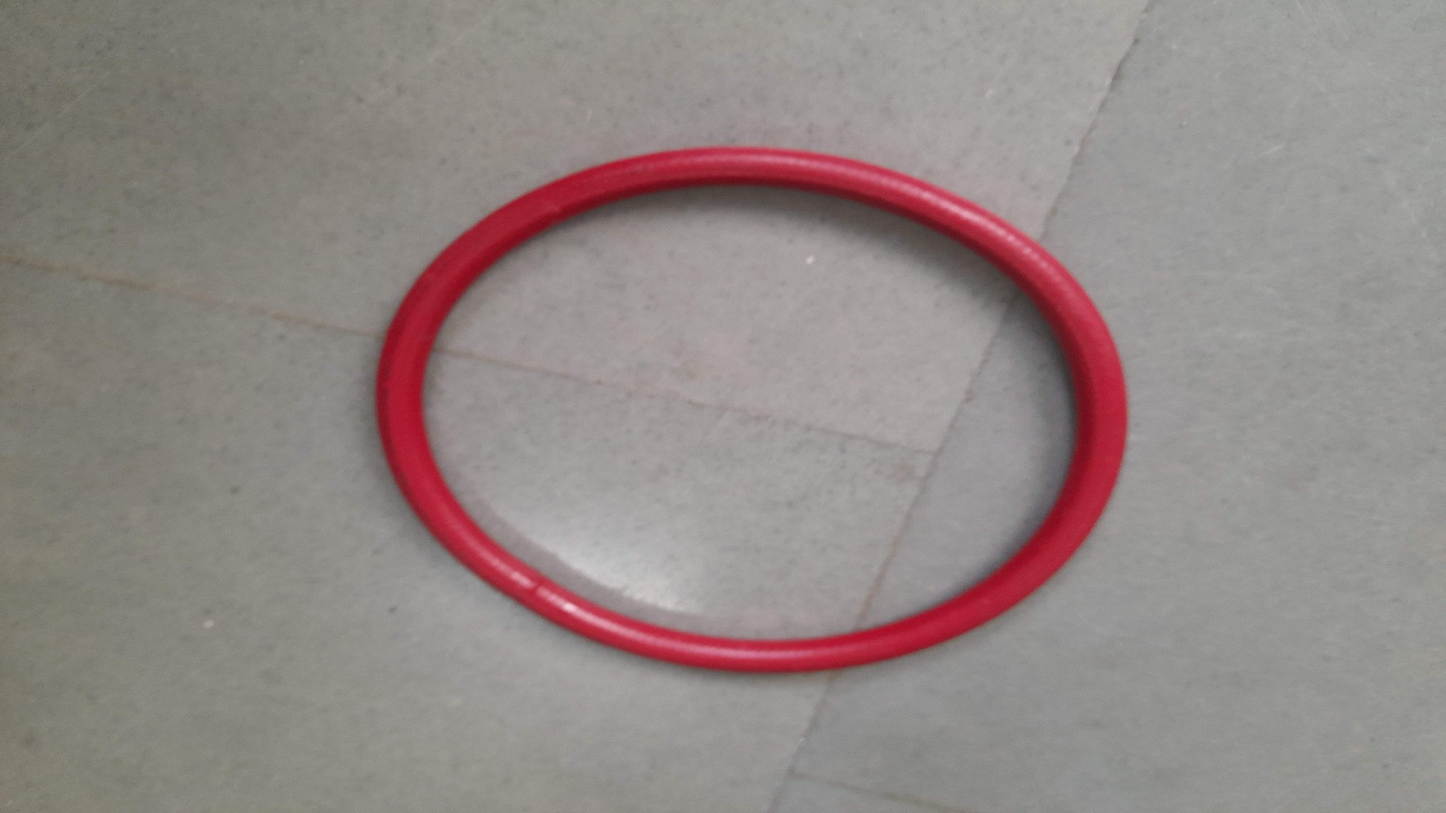Red ring: (378, 146, 1129, 669)
